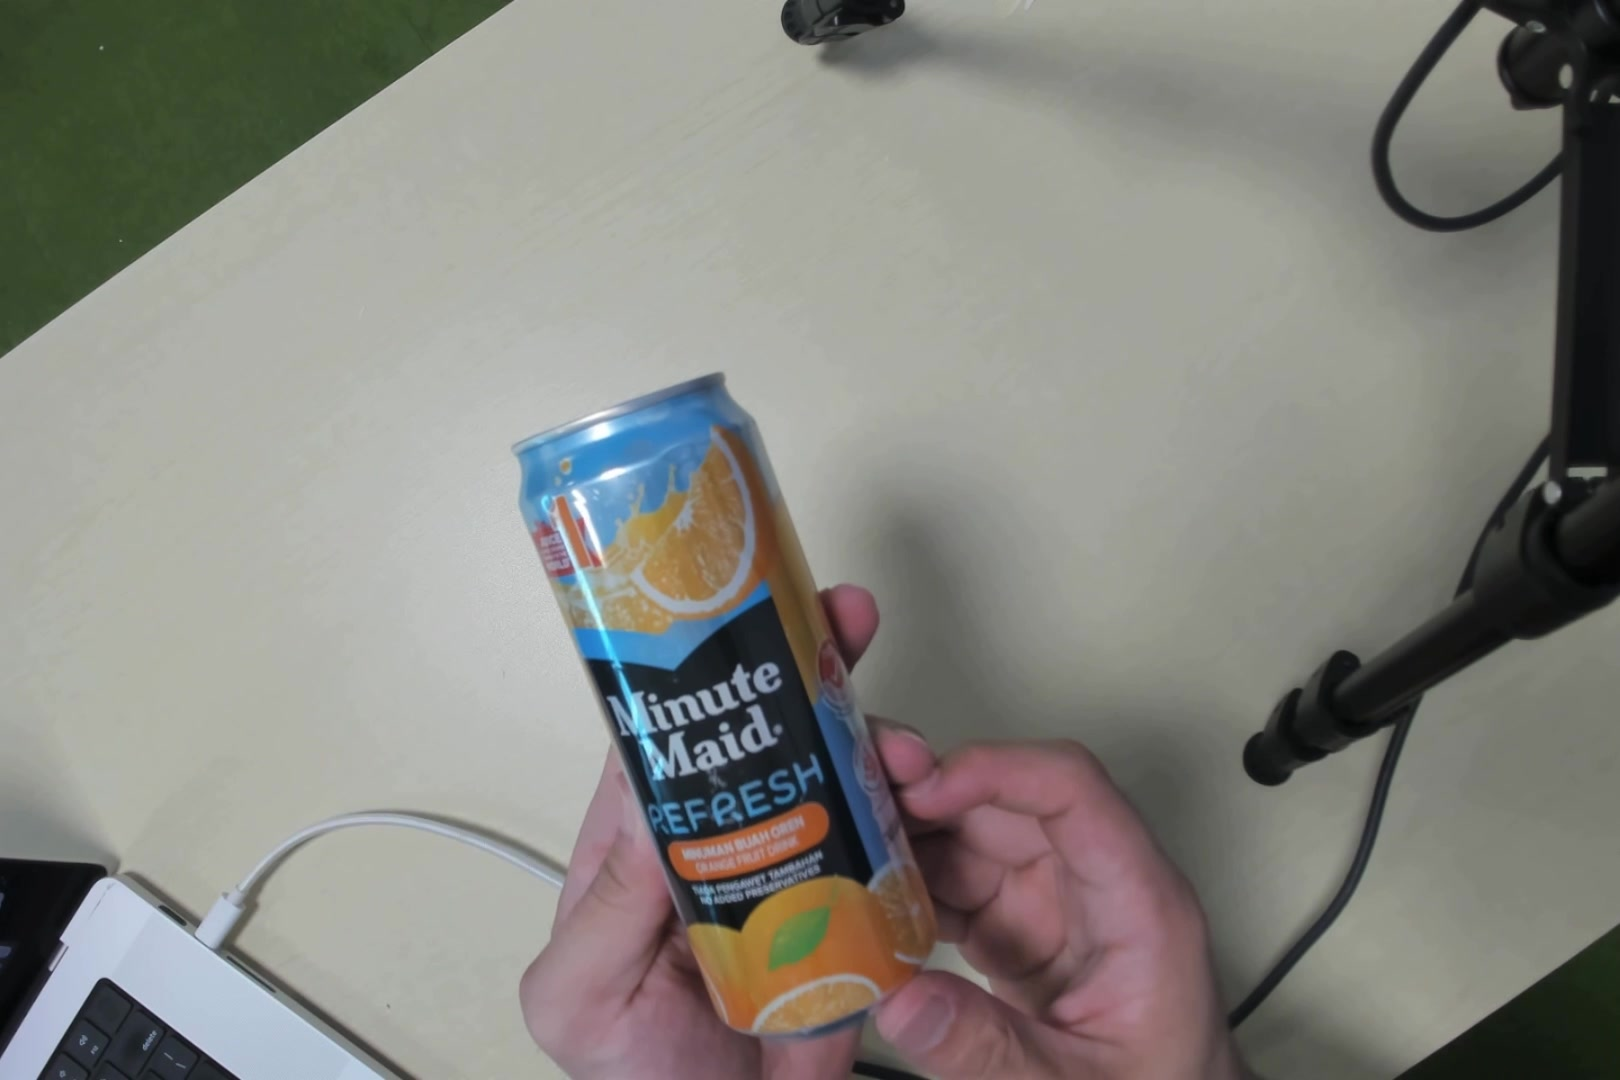SoftDrinks_200-299g_Halal_Healthy: (529, 370, 915, 1028)
